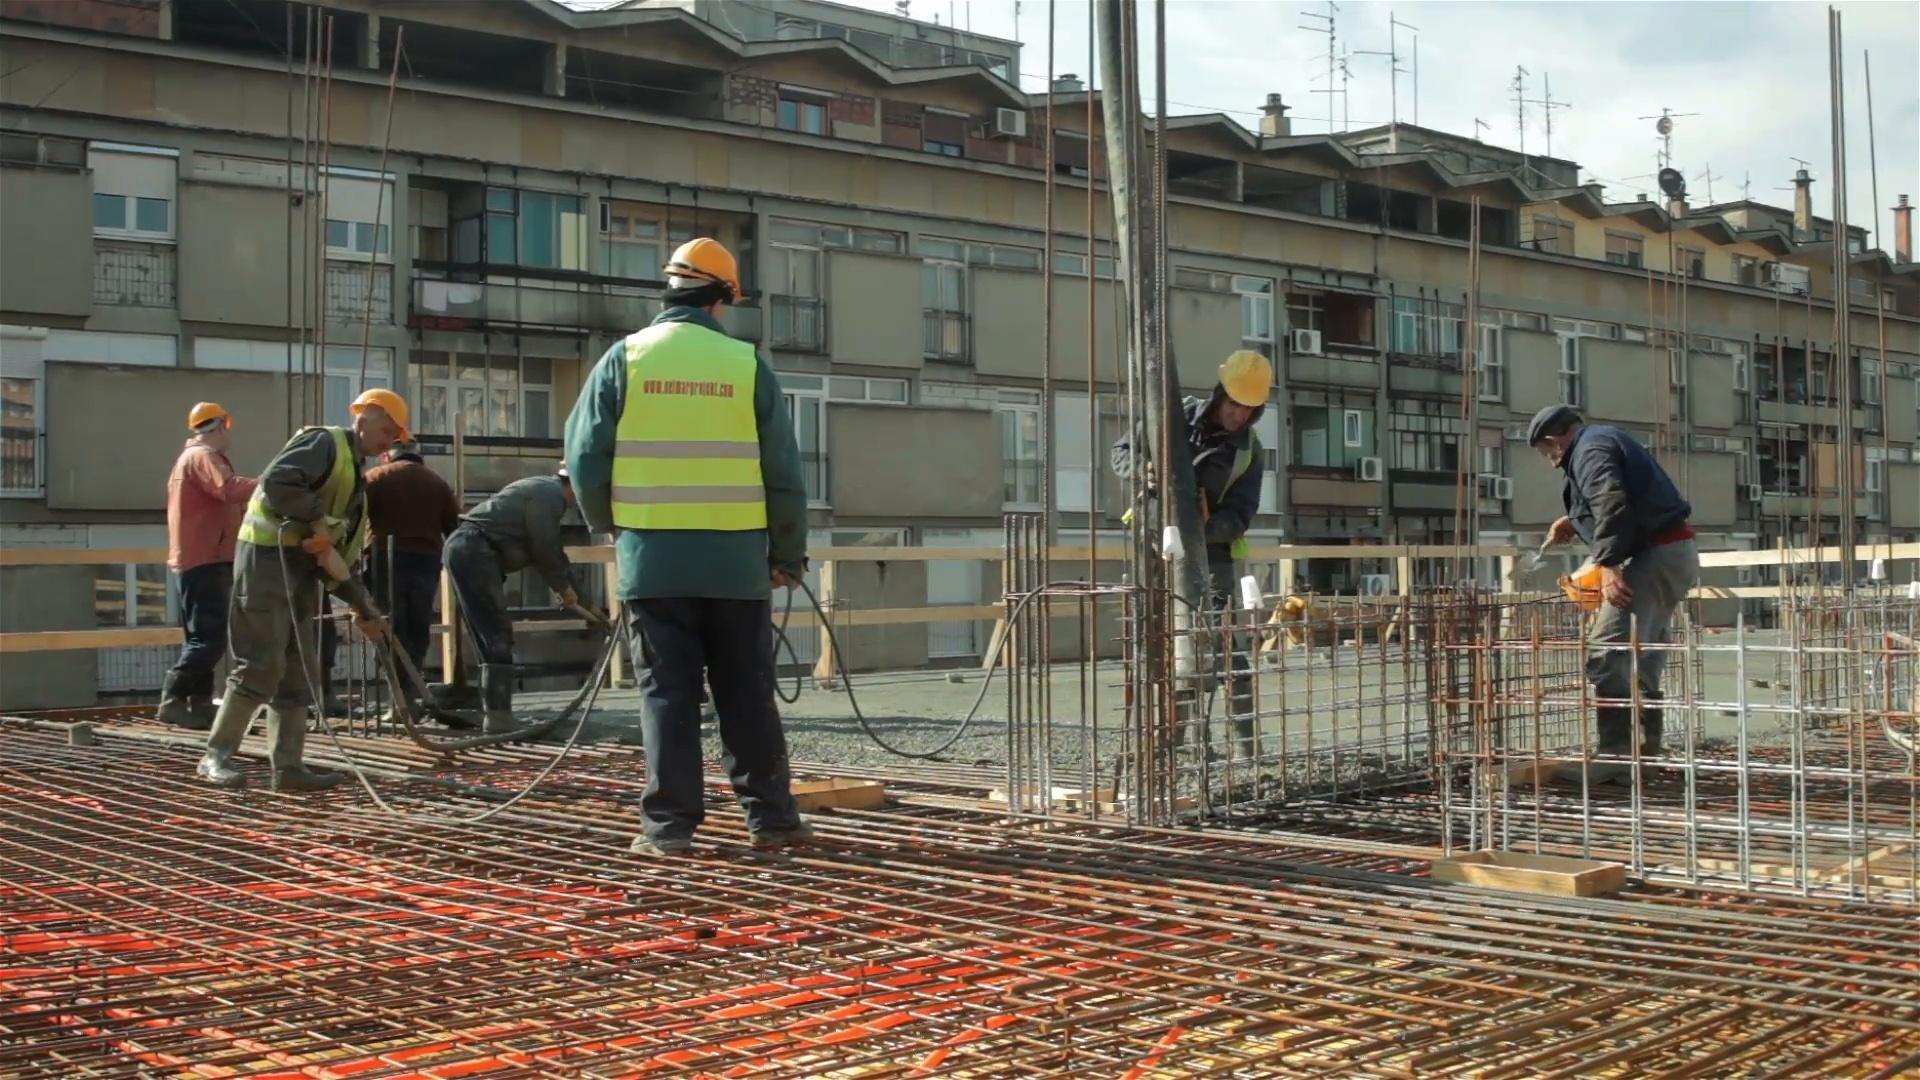helmet: (655, 226, 754, 311)
person: (571, 220, 826, 866), (228, 386, 403, 779), (1528, 402, 1712, 747)
vest: (618, 332, 765, 529)
